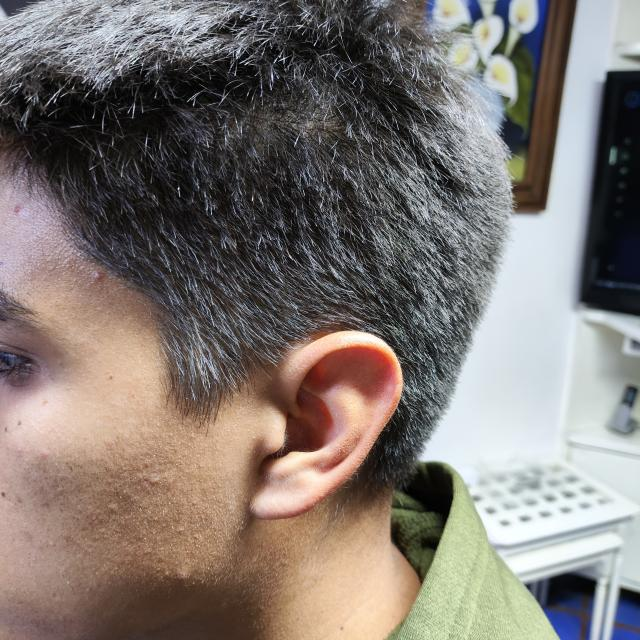ear: (250, 331, 402, 519)
